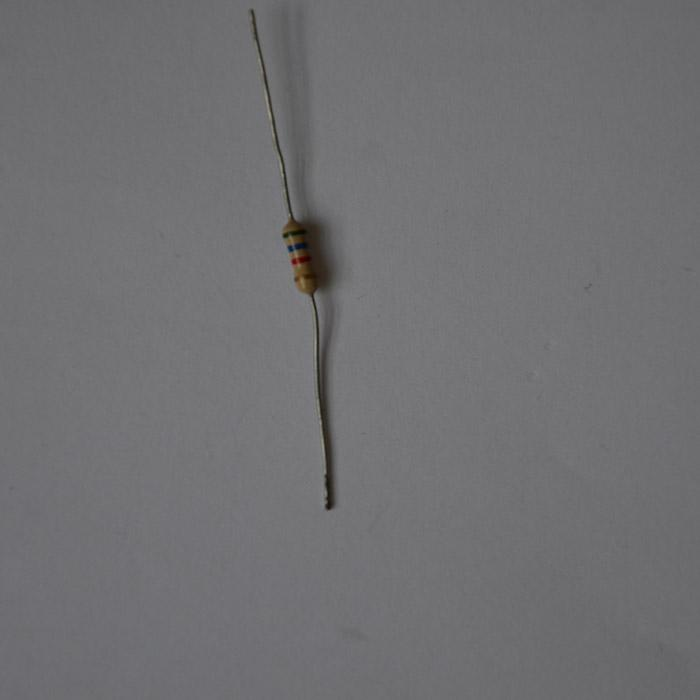resistor: (280, 218, 318, 297)
